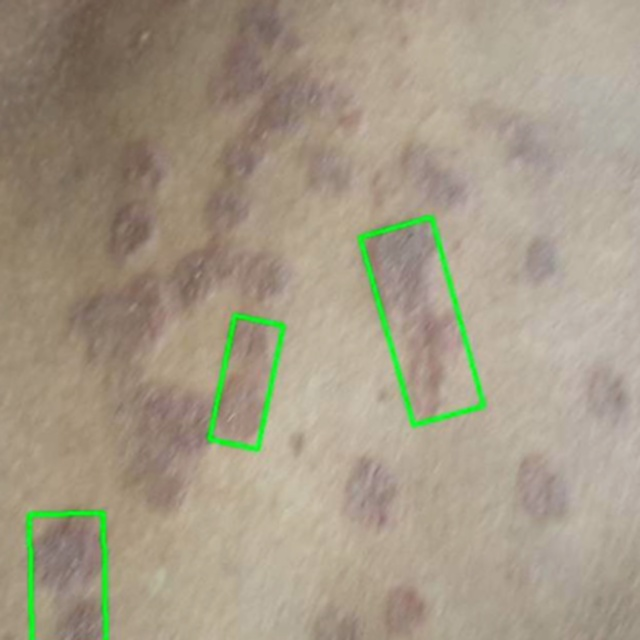Tinea Corporis: (360, 216, 484, 425), (209, 315, 284, 449), (30, 513, 106, 639)
